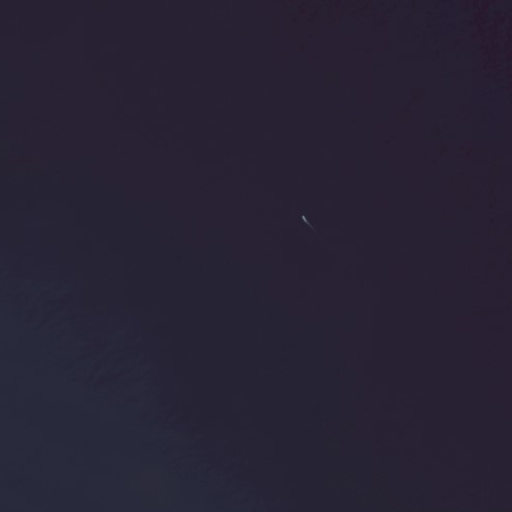ship: (298, 211, 313, 228)
